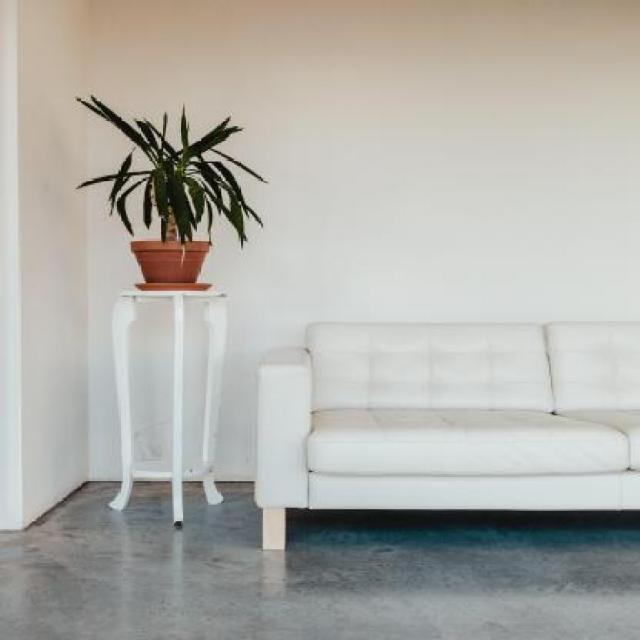Floor: (2, 481, 637, 639)
